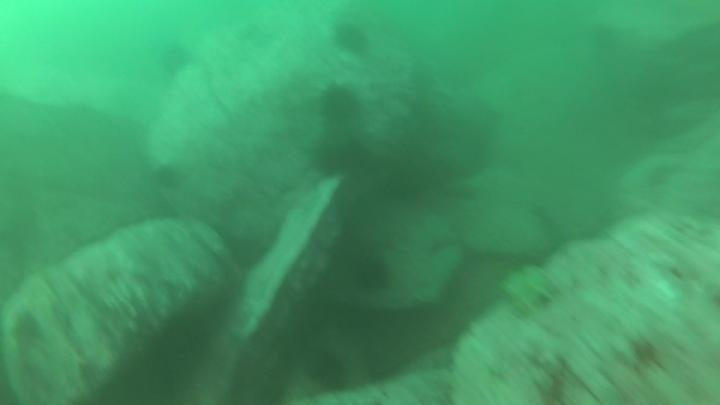echinus: (118, 309, 214, 402), (303, 348, 353, 395), (317, 82, 365, 129), (348, 251, 394, 296), (310, 137, 355, 181), (155, 39, 195, 80), (330, 19, 372, 58), (151, 161, 185, 193)
holothurian: (498, 260, 564, 318)
